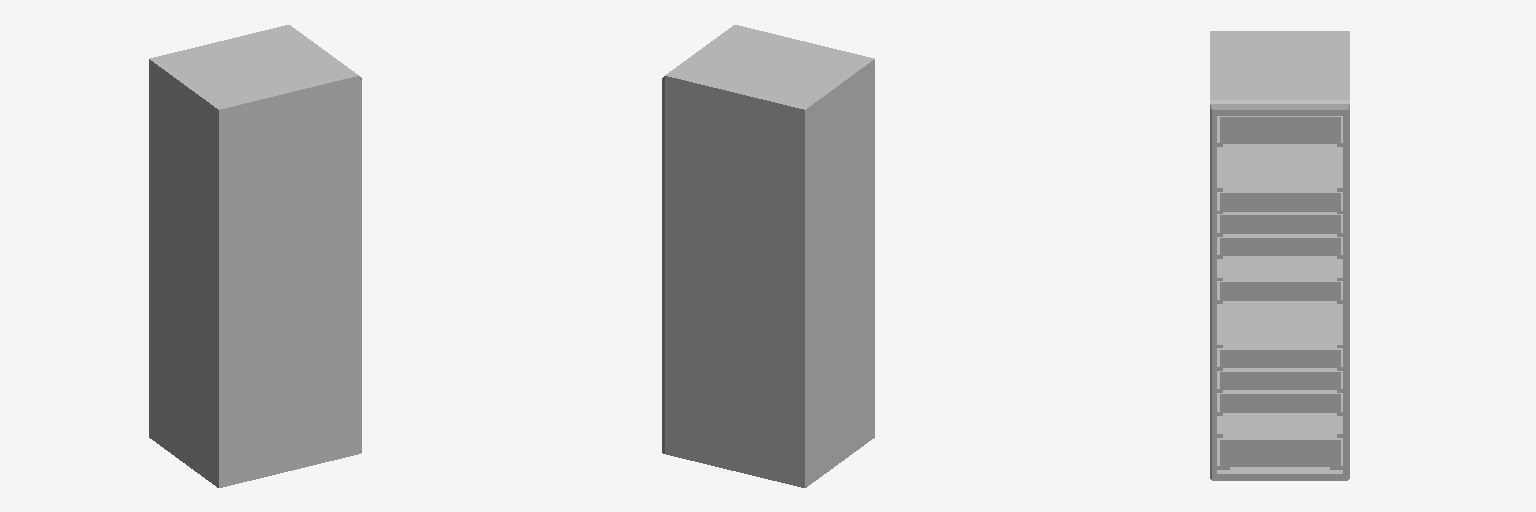
Rendered from jigui-odd.obj.
3 views of the same model, side by side, from view 1: azimuth 30°, elevation 25°; view 2: azimuth 150°, elevation 25°; view 3: azimuth 270°, elevation 25° (orthographic).
Parts seen in each view (by area): view 1: rack; view 2: rack; view 3: rack, 1u_server9, 1u_server4, misc1, 1u_server5, misc2, 1u_server2, 1u_server8, 1u_server7, 1u_server3.
Boxes of the visible parts, x1=… form: rack: x1=149, y1=25, x2=361, y2=487; rack: x1=662, y1=25, x2=874, y2=487; rack: x1=1210, y1=31, x2=1349, y2=480; 1u_server9: x1=1220, y1=144, x2=1340, y2=211; 1u_server4: x1=1220, y1=301, x2=1340, y2=367; misc1: x1=1220, y1=413, x2=1340, y2=466; 1u_server5: x1=1220, y1=256, x2=1340, y2=300; misc2: x1=1220, y1=116, x2=1340, y2=143; 1u_server2: x1=1220, y1=390, x2=1340, y2=412; 1u_server8: x1=1220, y1=212, x2=1340, y2=233; 1u_server7: x1=1220, y1=234, x2=1340, y2=255; 1u_server3: x1=1220, y1=368, x2=1340, y2=389.
Bounding box in the file's own units: 2.06 × 5.15 × 1.72.